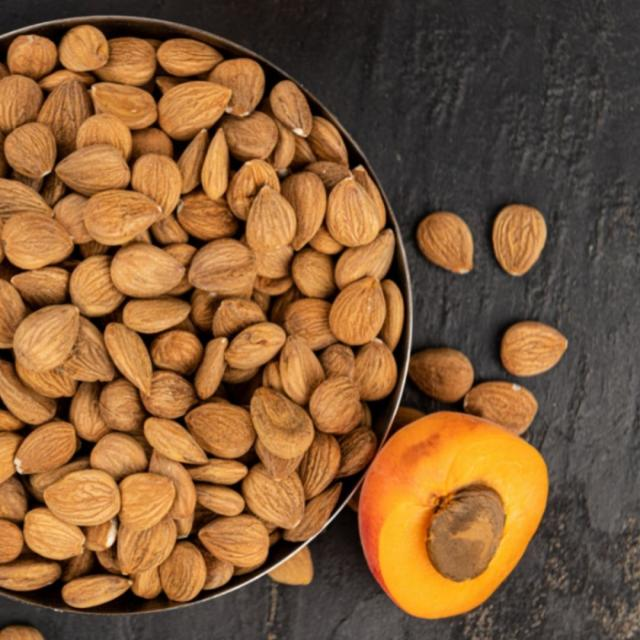cekirdek: (9, 39, 332, 588), (406, 206, 480, 276), (449, 508, 492, 578), (506, 212, 544, 281), (421, 354, 470, 406), (532, 334, 574, 393), (492, 390, 540, 421)
kayisi: (369, 417, 544, 616)
